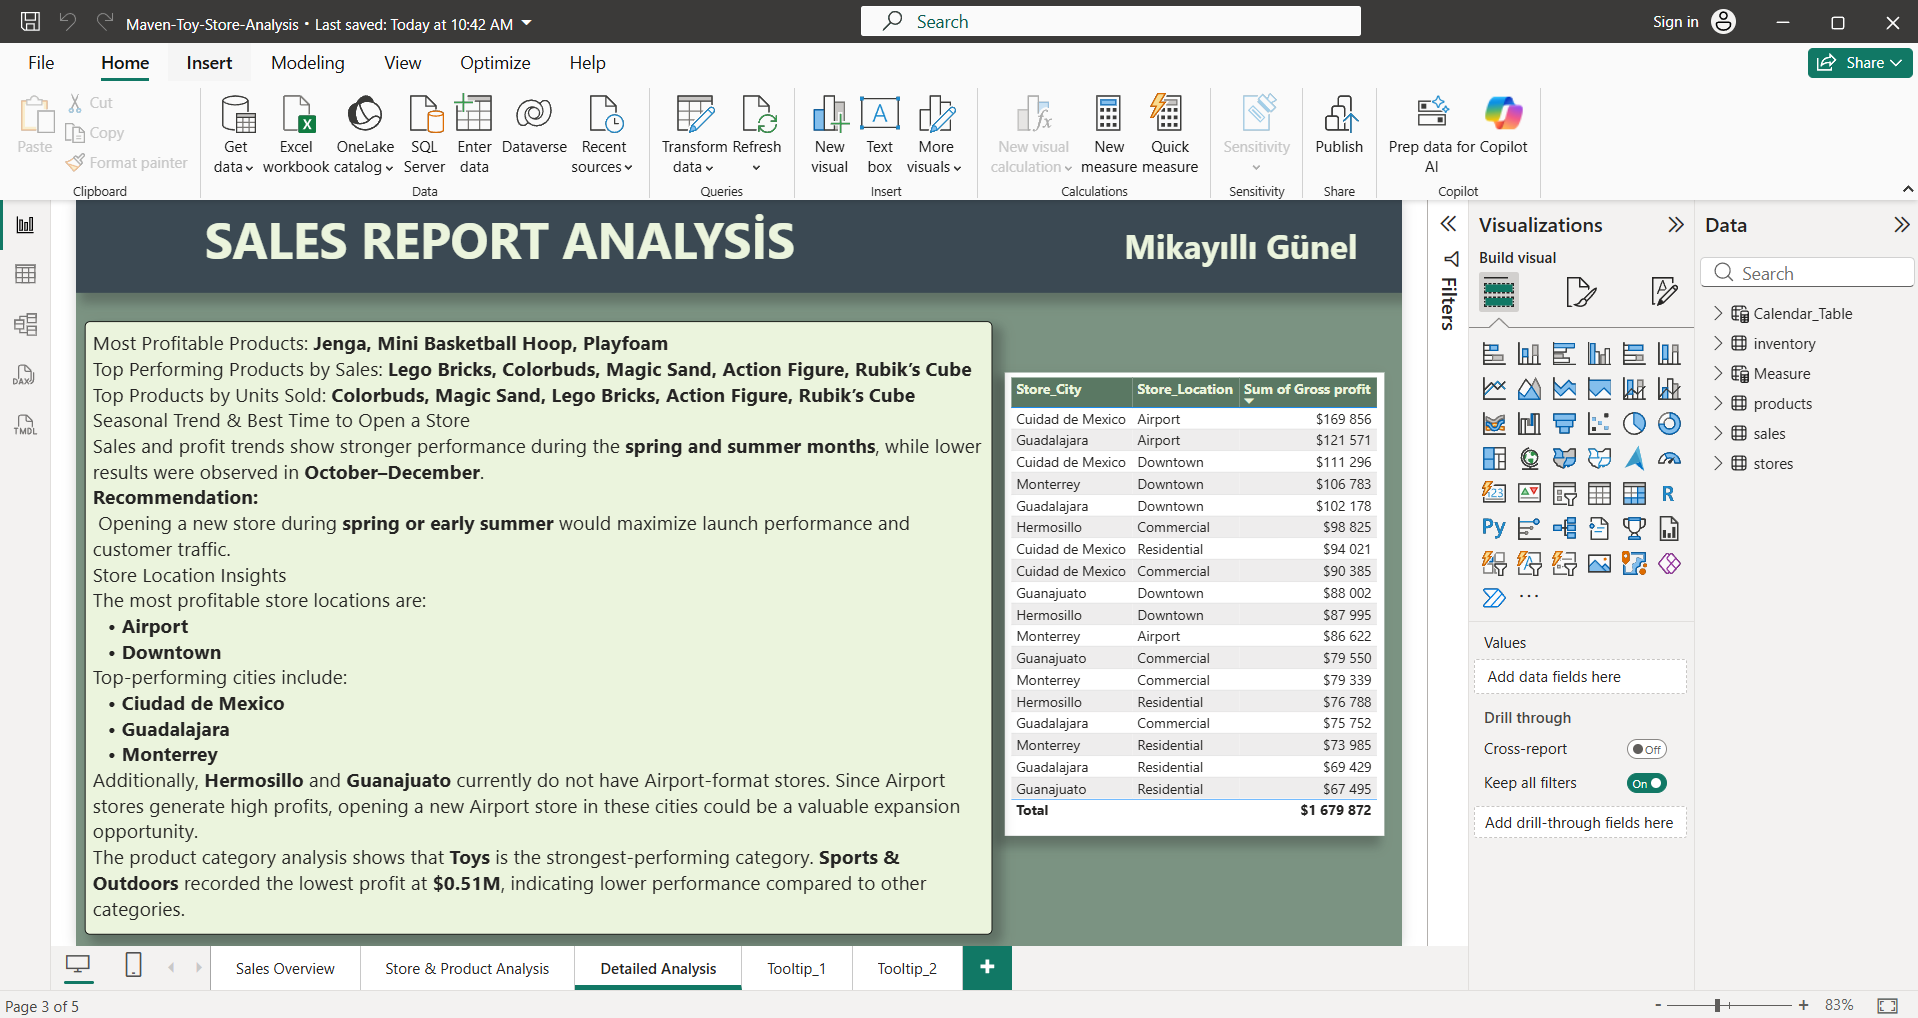

The page's visual inventory and layout, read from the dashboard file:
{"tool":"powerbi","page":{"name":"Detailed Analysis","canvas":[1280,720],"ordinal":2},"visuals":[{"type":"tableEx","fields":{"Values":["stores.Store_City","stores.Store_Location","Sum(sales.Gross profit)"]},"box":[896.4,166.5,366.8,447.6],"z":0},{"type":"textbox","box":[0,0,1280,89.3],"z":1000},{"type":"textbox","box":[8.4,117,875.9,592.4],"z":2000}]}

Visuals, with their boxes on the page's 1280x720 design canvas (x1, y1, x2, y2). These are canvas units, not pixel positions in the 1918x1018 screenshot, which may show the page scaled, cropped or inside an application window:
tableEx - stores.Store_City x stores.Store_Location: x1=896, y1=166, x2=1263, y2=614
textbox: x1=0, y1=0, x2=1280, y2=89
textbox: x1=8, y1=117, x2=884, y2=709
